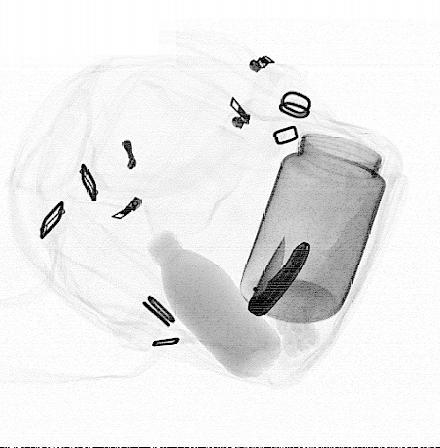Knife: (247, 235, 312, 318)
